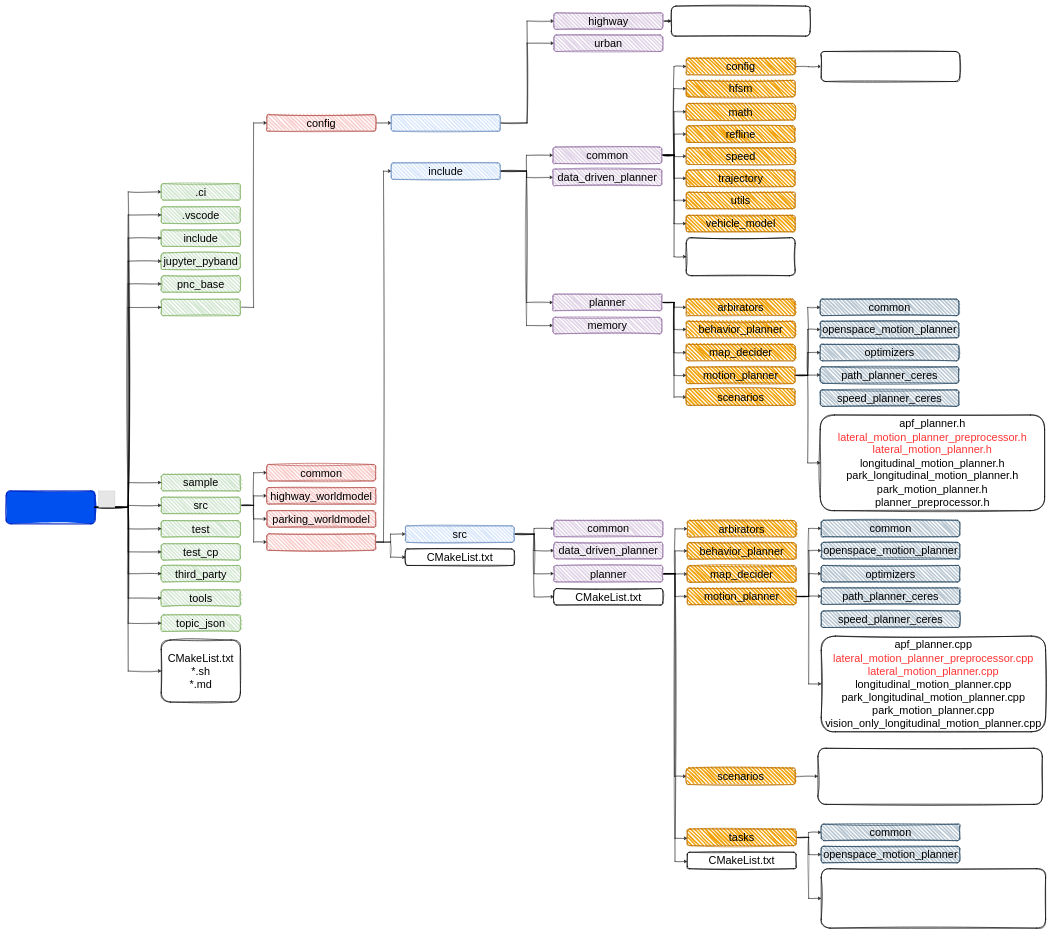
Some shapes in this 1051 by 934 pixel diagram are drawn without their labels. Grey dashed boxes stand in for pictures. The centre of each missing label's shape, as x and y in pixels:
"lane_follow_scenario.json lane_json.h" belongs at (x=740, y=21).
"loop_scenario_facade.cpp scenario_facade.cpp scenario_factory.cpp" belongs at (x=929, y=776).
"maf_planning" belongs at (x=50, y=507).
"obstacle_decider_preprocessor.cpp obstacle_decider.cpp task_factory.cpp task.cpp" belongs at (x=933, y=898).
"planning" belongs at (x=321, y=541).
"planning_task.hpp ..." belongs at (x=740, y=256).
"resource" belongs at (x=201, y=307).
"scenario_configs_json" belongs at (x=445, y=122).
"task_config.h scenario_config.h" belongs at (x=890, y=66).
